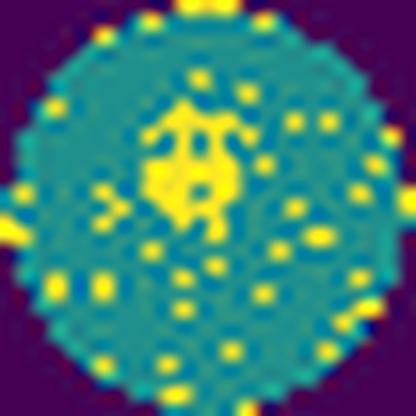Center: (139, 101, 261, 242)
